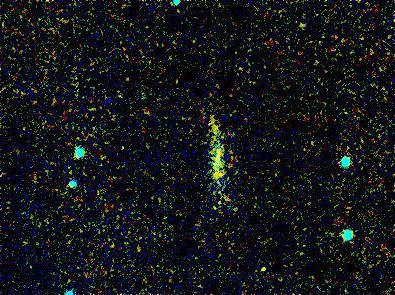star: (249, 252, 279, 282)
